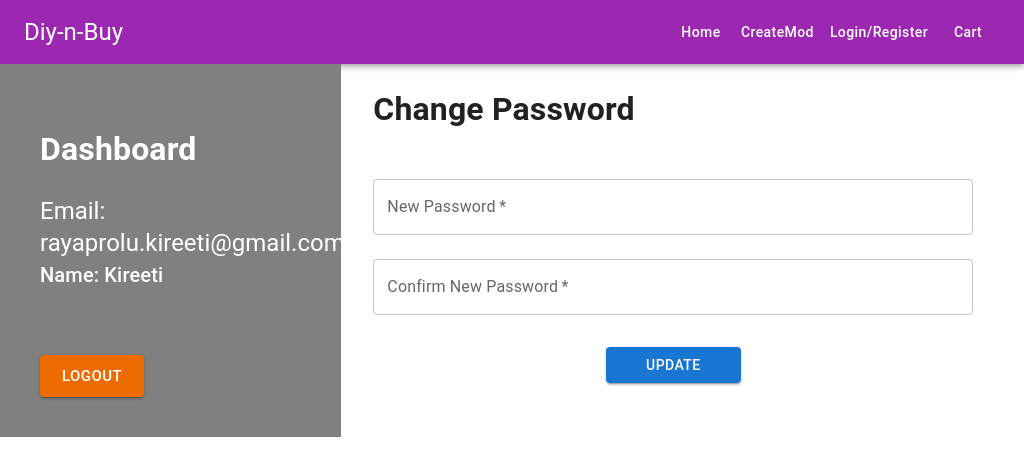
Scenario: Submit › Should redirect to Dashboard page
This screenshot has width=1024, height=464.
In the password field labelled "New Password *": (673, 207) [373,179,973,235], type "kireeti@128"
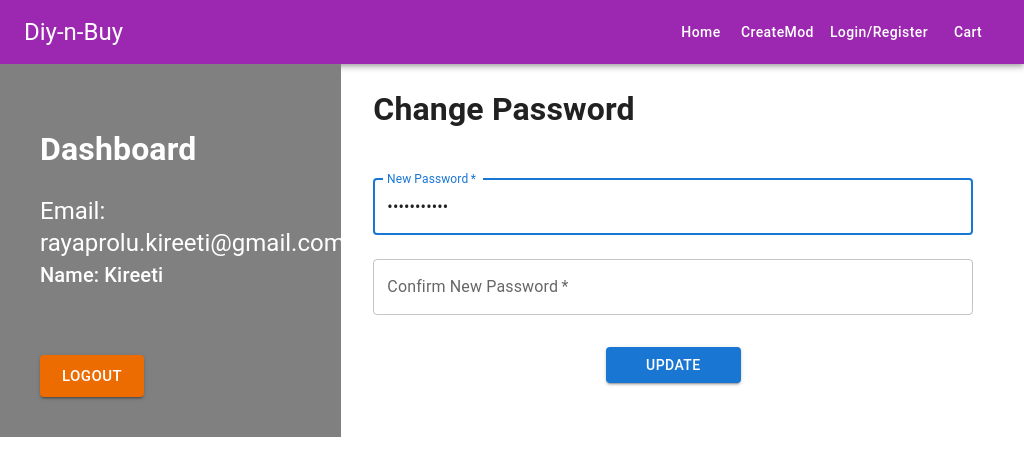
In the password field labelled "Confirm New Password *": (673, 287) [373,259,973,315], type "kireeti@12"
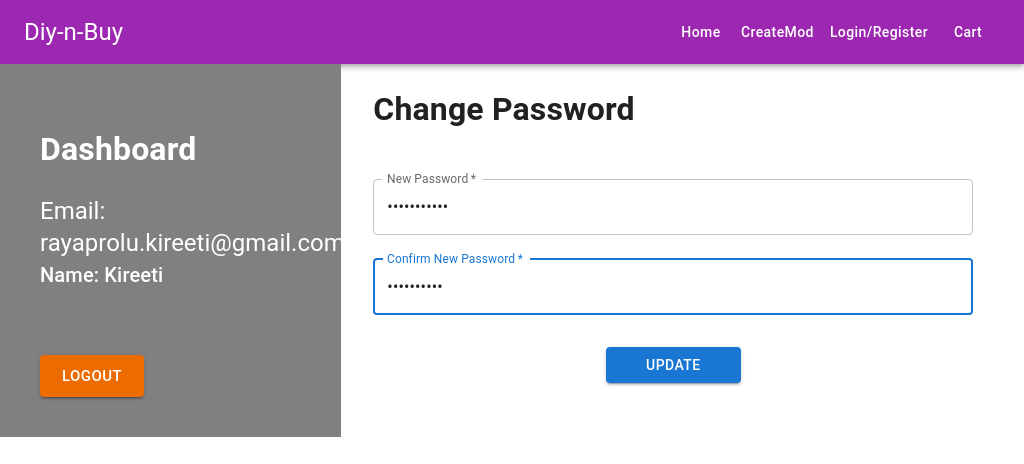
Submit the form, box [373,163,973,400]
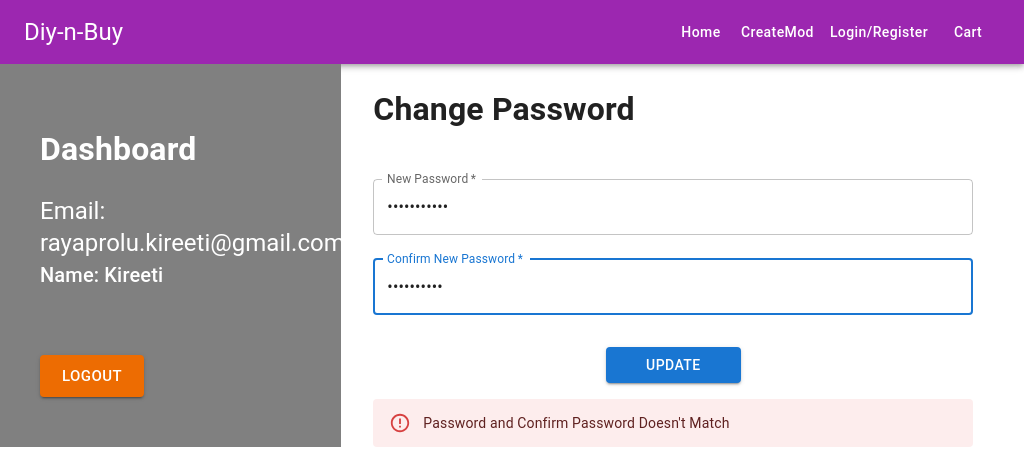
Result: the text "Password and Confirm Password Doesn't Match" is shown at [423,415,730,431]
